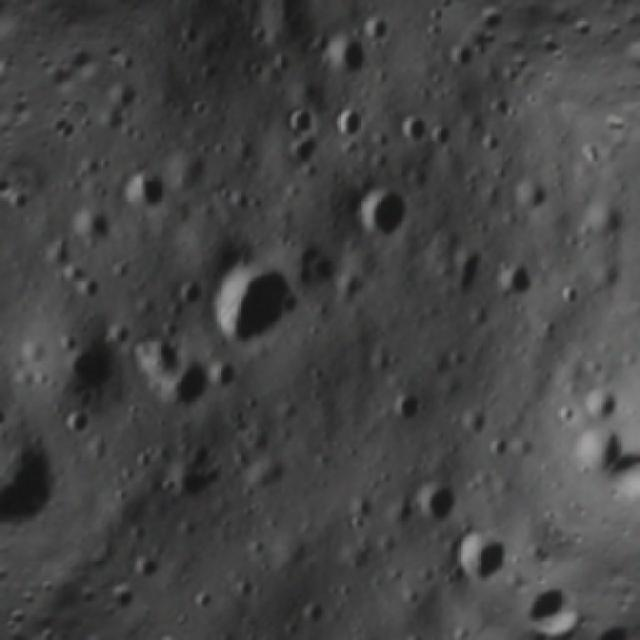crater: (183, 237, 319, 372), (42, 322, 130, 411), (340, 168, 423, 252), (554, 406, 634, 486), (148, 434, 227, 512), (441, 515, 519, 593), (124, 322, 199, 398), (274, 230, 348, 304), (108, 154, 181, 226), (404, 464, 474, 534), (312, 18, 381, 88), (432, 236, 500, 304), (63, 193, 128, 256), (574, 187, 638, 250), (485, 248, 546, 309), (572, 372, 632, 432), (502, 165, 560, 223), (377, 380, 431, 434), (174, 428, 226, 478), (282, 124, 332, 174), (56, 396, 106, 446), (390, 101, 441, 150), (326, 97, 376, 146), (278, 92, 327, 140), (336, 482, 384, 530), (89, 95, 136, 142), (102, 70, 150, 116), (380, 483, 426, 529), (290, 588, 336, 634), (122, 542, 168, 588), (36, 231, 81, 275), (438, 34, 480, 78), (168, 506, 212, 548), (360, 5, 400, 46), (174, 11, 214, 52), (72, 266, 110, 305), (422, 114, 460, 152), (3, 183, 39, 219), (484, 91, 519, 126), (127, 438, 162, 473), (185, 580, 220, 615), (229, 570, 263, 605), (112, 46, 145, 80), (186, 89, 217, 122), (57, 119, 85, 148), (398, 623, 432, 640), (0, 399, 15, 434)
